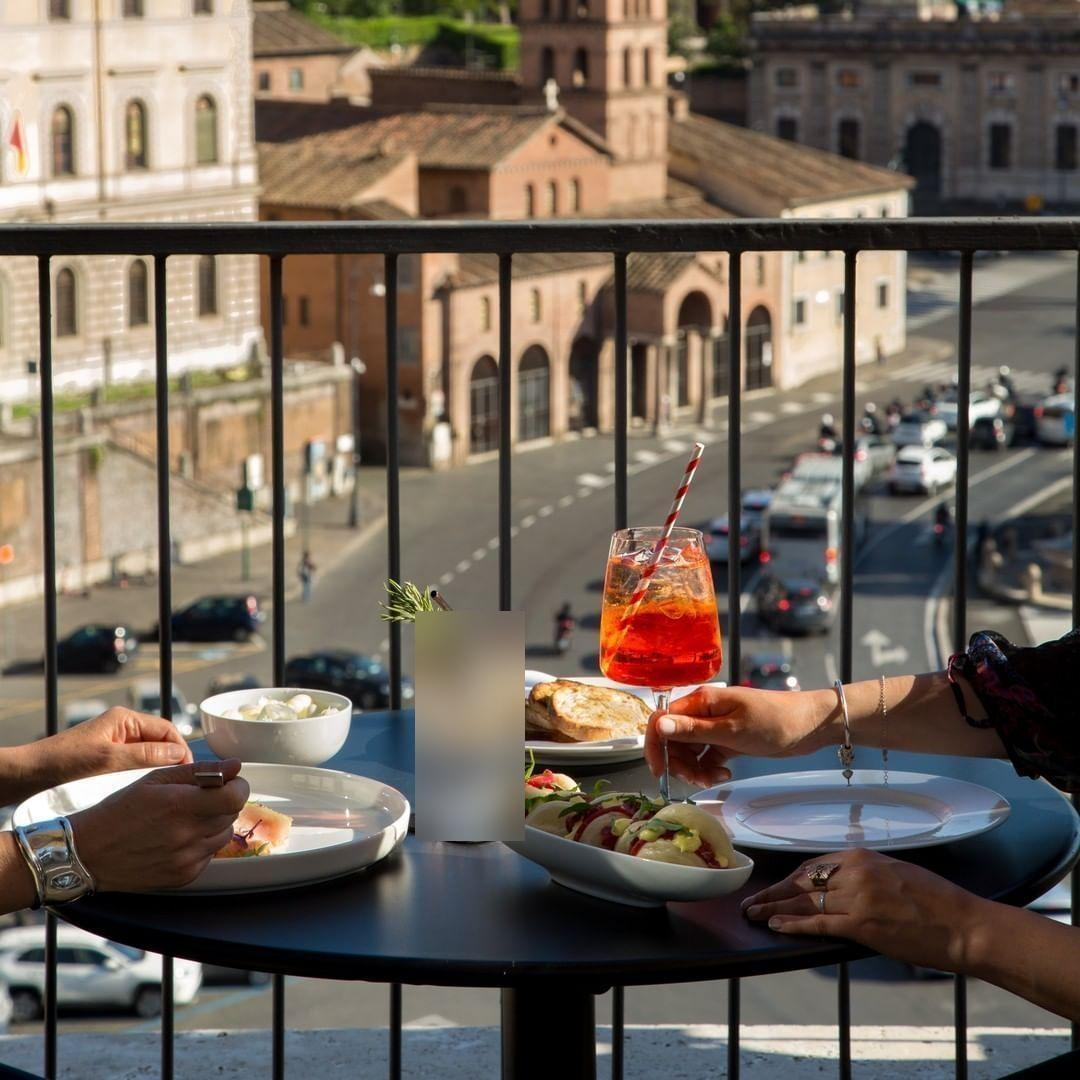glass-wine: (594, 518, 724, 822)
